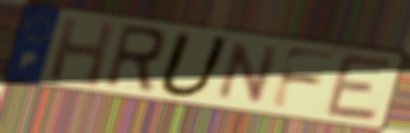E: (322, 52, 396, 124)
F: (266, 45, 342, 112)
H: (46, 15, 118, 91)
N: (212, 39, 284, 105)
R: (100, 22, 169, 96)
U: (153, 29, 236, 100)
